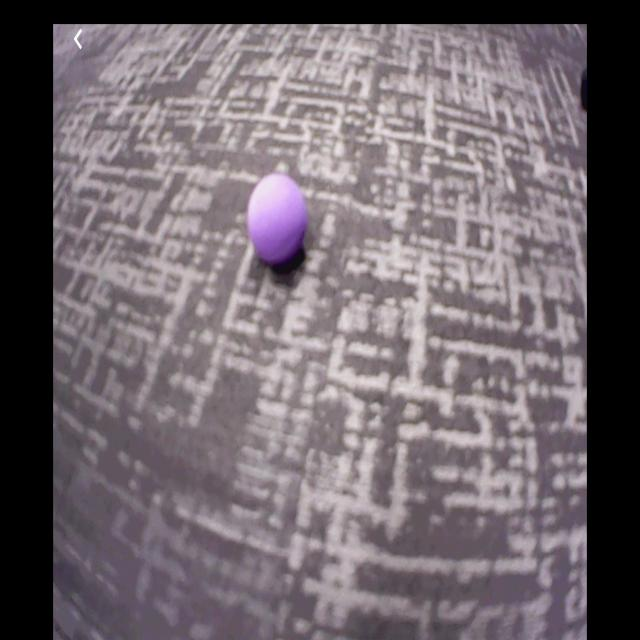ball: (249, 175, 309, 262)
